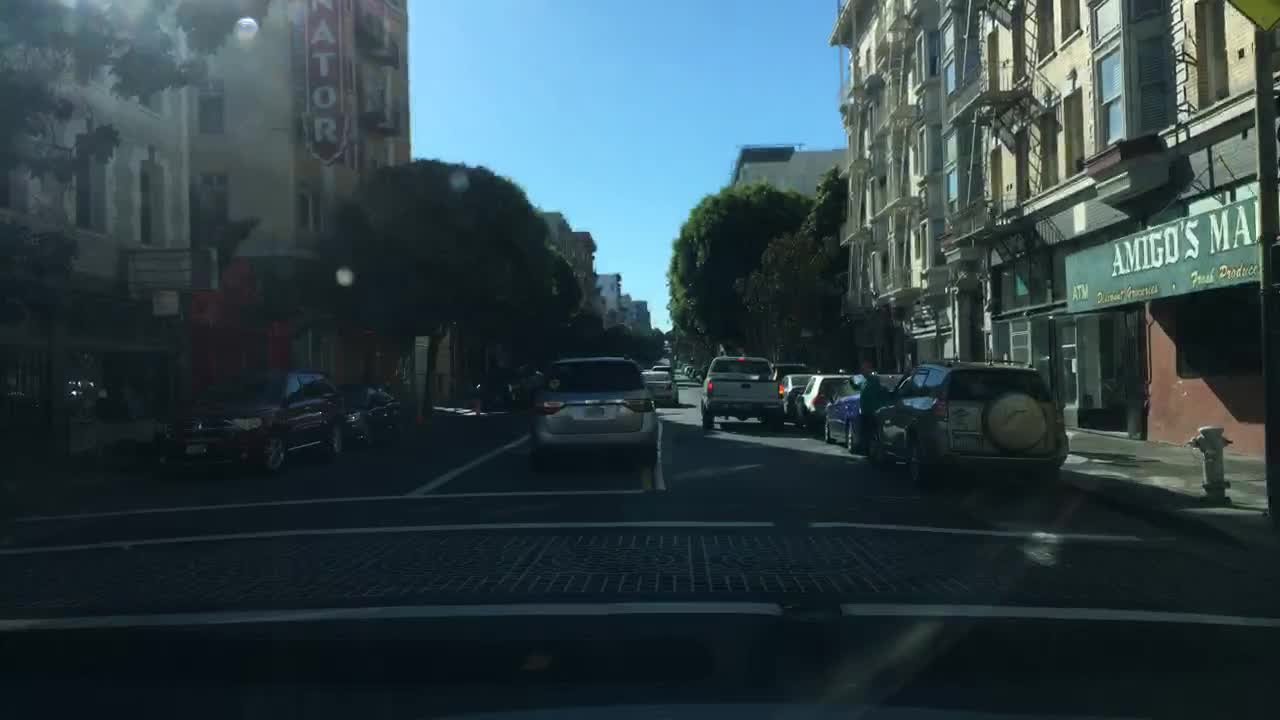car: (865, 354, 1067, 489), (161, 371, 344, 478), (526, 355, 660, 474), (821, 372, 911, 451), (698, 353, 785, 428), (341, 380, 422, 448), (790, 374, 854, 433), (776, 372, 818, 418), (469, 375, 517, 411), (640, 369, 678, 406), (517, 367, 547, 404), (765, 361, 808, 381), (653, 364, 674, 382), (694, 366, 710, 386), (688, 367, 700, 382), (682, 365, 694, 377), (679, 361, 688, 374)
